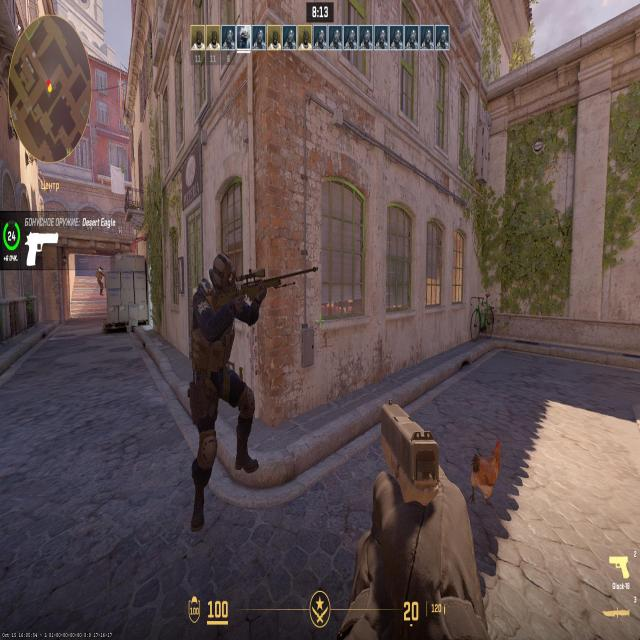CT: (194, 257, 249, 463), (95, 265, 103, 292)
CT_heat: (219, 256, 232, 290), (99, 264, 101, 272)
